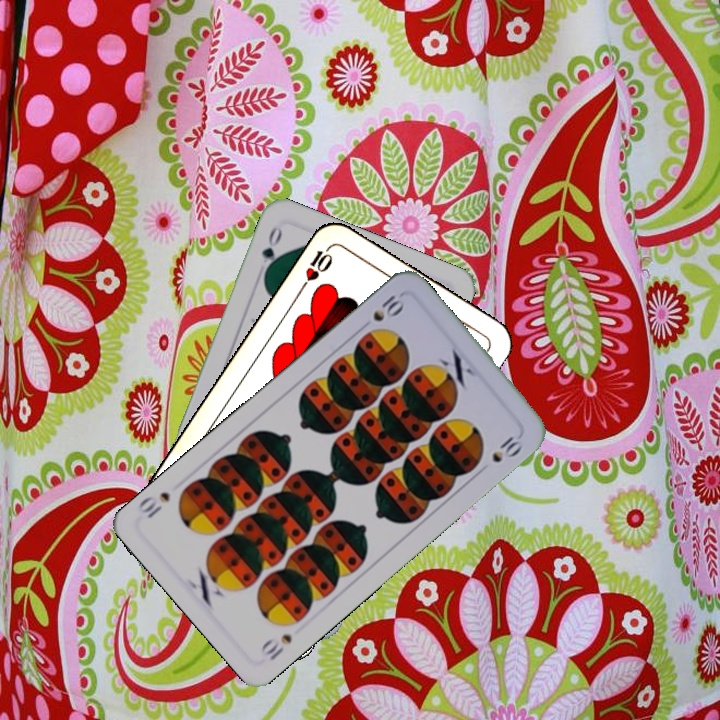GO: (257, 222, 285, 280)
H10: (296, 240, 336, 292)
S10: (368, 288, 408, 325), (256, 629, 295, 663)
